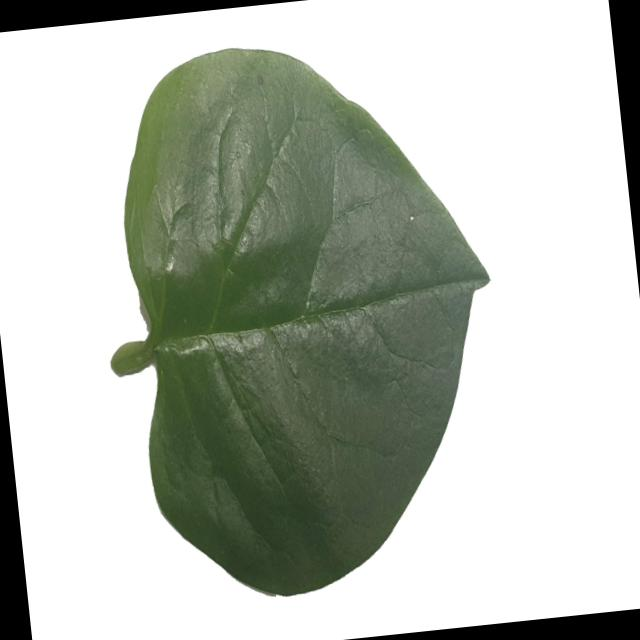Medicinal-Basale: (79, 20, 522, 612)
